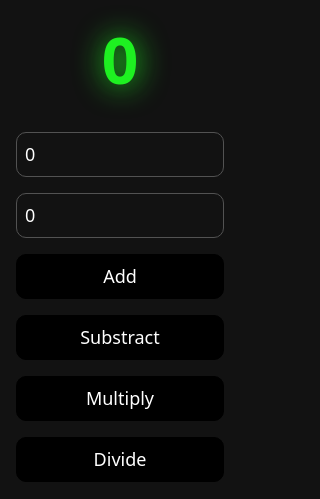
Test: Calculator › substract to number
Step 1. Replace the text in the number field with test id "Num1" with "2" → (120, 154), box [16,132,224,177]
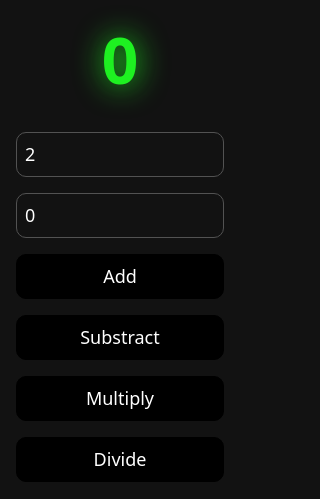
Step 2. Replace the text in the number field with test id "Num2" with "4" → (120, 216), box [16,193,224,238]
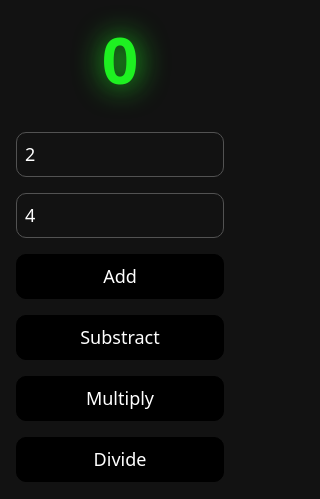
Step 3. Click the button with test id "Multiply" → (120, 398), box [16,376,224,421]
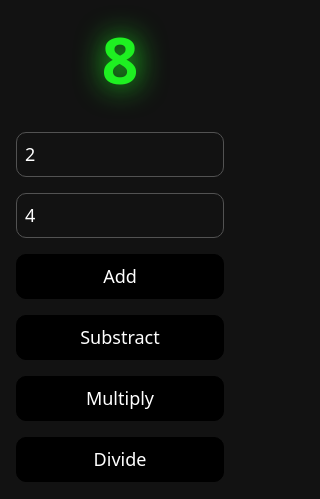
Check: the heading with test id "result" reads "8", box [102,16,138,103]
